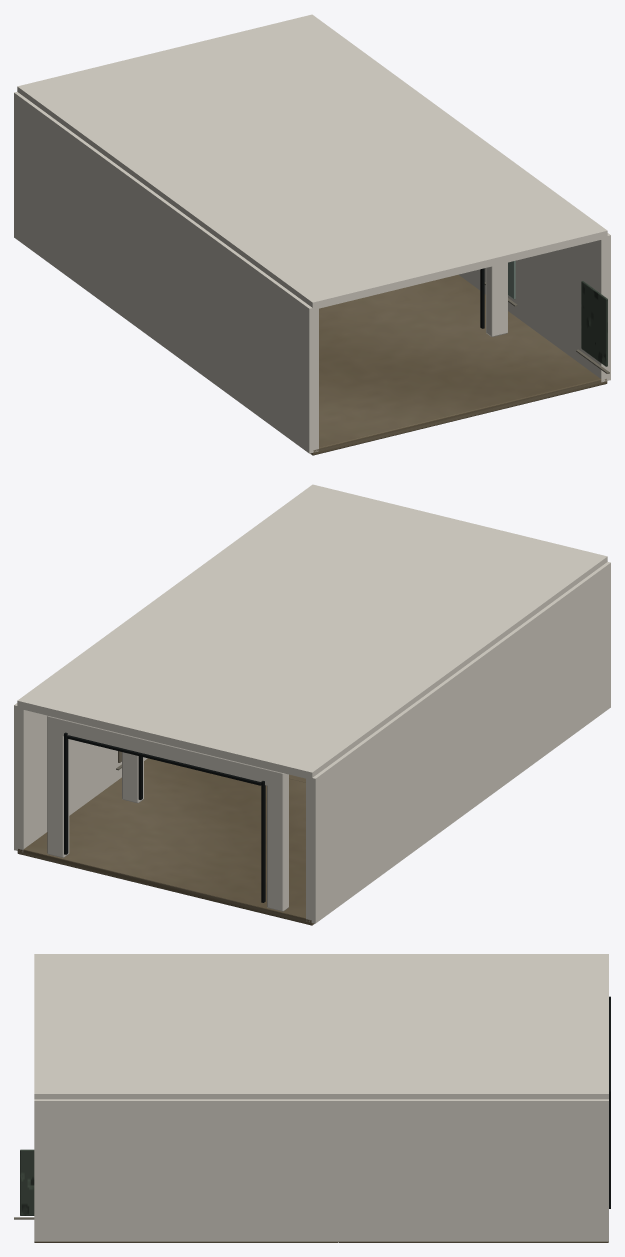
Rendered from luminous-passage-gallery.glb.
3 views of the same model, one above another, from view 1: azimuth 30°, elevation 25°; view 2: azimuth 150°, elevation 25°; view 3: azimuth 270°, elevation 25° (orthographic). The views are drawn at different scales.
Visible parts, largest first — view 1: Ceiling_luminous-finish-hall, Ceiling_proof-arcade, Floor_luminous-finish-hall, Wall_luminous-finish-hall, Wall_proof-arcade, Wall_luminous-finish-hall.001, Inset_sage-fleck, Portal_jamb.011; view 2: Ceiling_luminous-finish-hall, Ceiling_proof-arcade, Floor_proof-arcade, Wall_luminous-finish-hall, Wall_proof-arcade, Wall_proof-arcade.001, Portal_lintel.008, Portal_jamb.016, Portal_jamb.017, Portal_jamb.015, Portal_shadow_reveal_head.008, Portal_shadow_reveal.016 (+1 smaller); view 3: Ceiling_luminous-finish-hall, Wall_luminous-finish-hall.001, Ceiling_proof-arcade, Wall_proof-arcade.001, Inset_sage-fleck, Floor_luminous-finish-hall, Floor_proof-arcade.
Part boxes in pixels (<box>): Ceiling_luminous-finish-hall: <box>156,116,607,309</box>; Ceiling_proof-arcade: <box>17,14,450,192</box>; Floor_luminous-finish-hall: <box>310,274,607,455</box>; Wall_luminous-finish-hall: <box>153,193,318,453</box>; Wall_proof-arcade: <box>14,92,155,338</box>; Wall_luminous-finish-hall.001: <box>459,233,610,382</box>; Inset_sage-fleck: <box>581,281,607,366</box>; Portal_jamb.011: <box>486,262,507,336</box>; Ceiling_luminous-finish-hall: <box>156,484,607,675</box>; Ceiling_proof-arcade: <box>17,599,451,779</box>; Floor_proof-arcade: <box>17,758,314,925</box>; Wall_luminous-finish-hall: <box>451,562,610,821</box>; Wall_proof-arcade: <box>306,676,454,923</box>; Wall_proof-arcade.001: <box>14,703,147,852</box>; Portal_lintel.008: <box>47,716,288,787</box>; Portal_jamb.016: <box>267,771,288,911</box>; Portal_jamb.017: <box>47,717,69,857</box>; Portal_jamb.015: <box>122,752,143,803</box>; Portal_shadow_reveal_head.008: <box>67,735,261,785</box>; Portal_shadow_reveal.016: <box>261,781,265,902</box>; Ceiling_luminous-finish-hall: <box>34,954,338,1099</box>; Wall_luminous-finish-hall.001: <box>34,1099,338,1241</box>; Ceiling_proof-arcade: <box>338,954,608,1099</box>; Wall_proof-arcade.001: <box>338,1099,608,1241</box>; Inset_sage-fleck: <box>20,1149,34,1215</box>; Floor_luminous-finish-hall: <box>34,1241,338,1242</box>; Floor_proof-arcade: <box>338,1241,608,1242</box>.
Bounding box in the file's own units: 10.02 × 4.87 × 17.66.
Materials: 10 (2 with a texture image).
